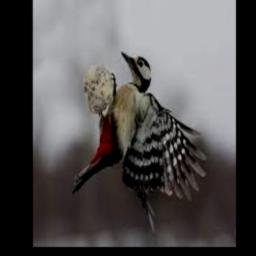Woodpecker: (72, 52, 207, 231)
